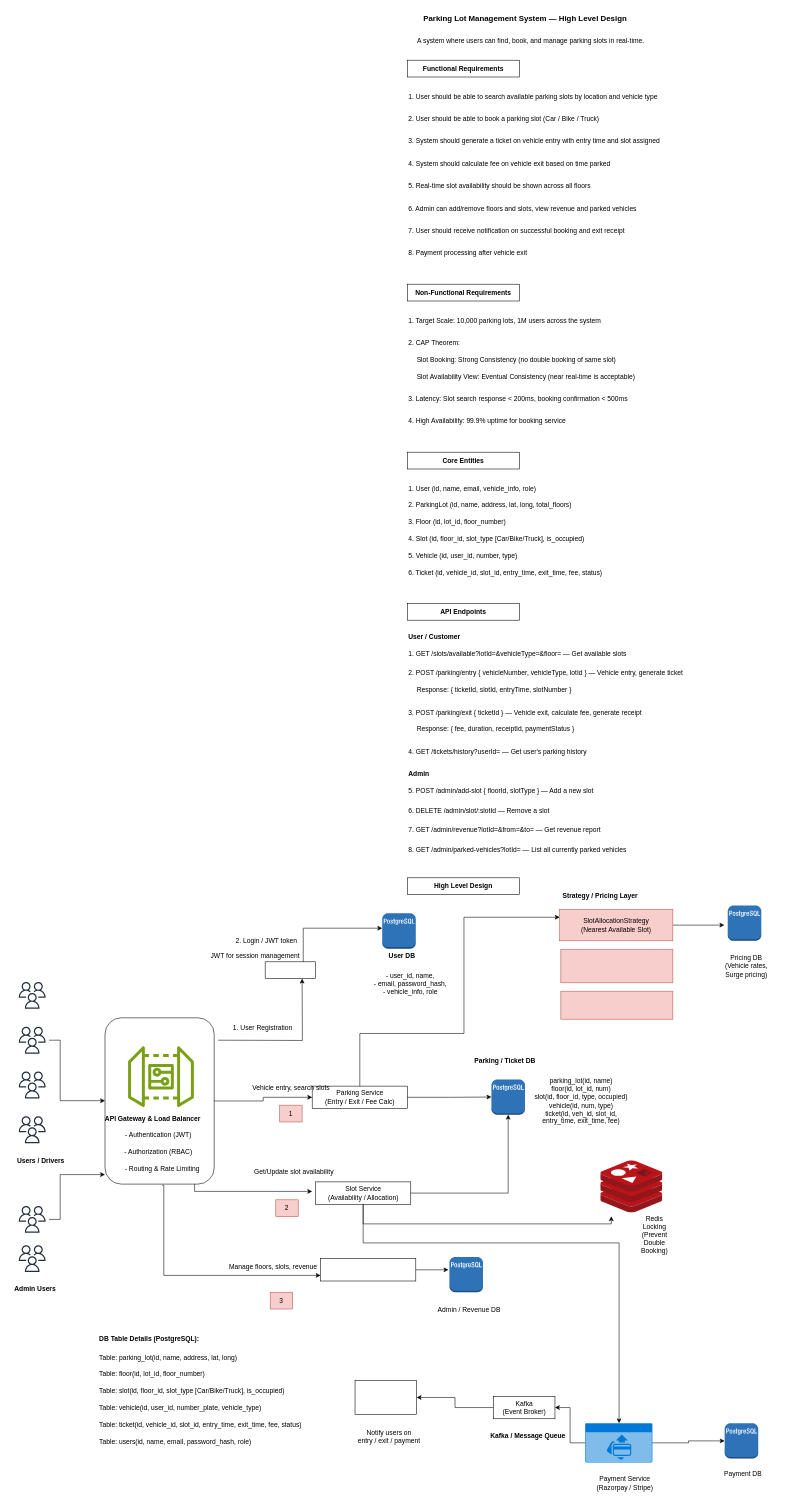
Image size: 789x1504. Some labels were removed from this diagram. The shapes that lost their labels are listed below. From the top down, each one's box as (x1, y1, x2, y2) in pixels, then its label:
(265, 961, 316, 979): User Service
(560, 949, 673, 983): PricingStrategy (Per-Hour: Car 20/hr, Bike 10/hr, Truck 50/hr)
(560, 991, 673, 1019): VehicleTypeStrategy (Car / Bike / Truck rates)
(320, 1258, 416, 1281): Admin Service (Floors / Slots / Revenue)
(354, 1380, 417, 1414): Notification Service (FCM / APNS)
(585, 1423, 652, 1462): Payment
